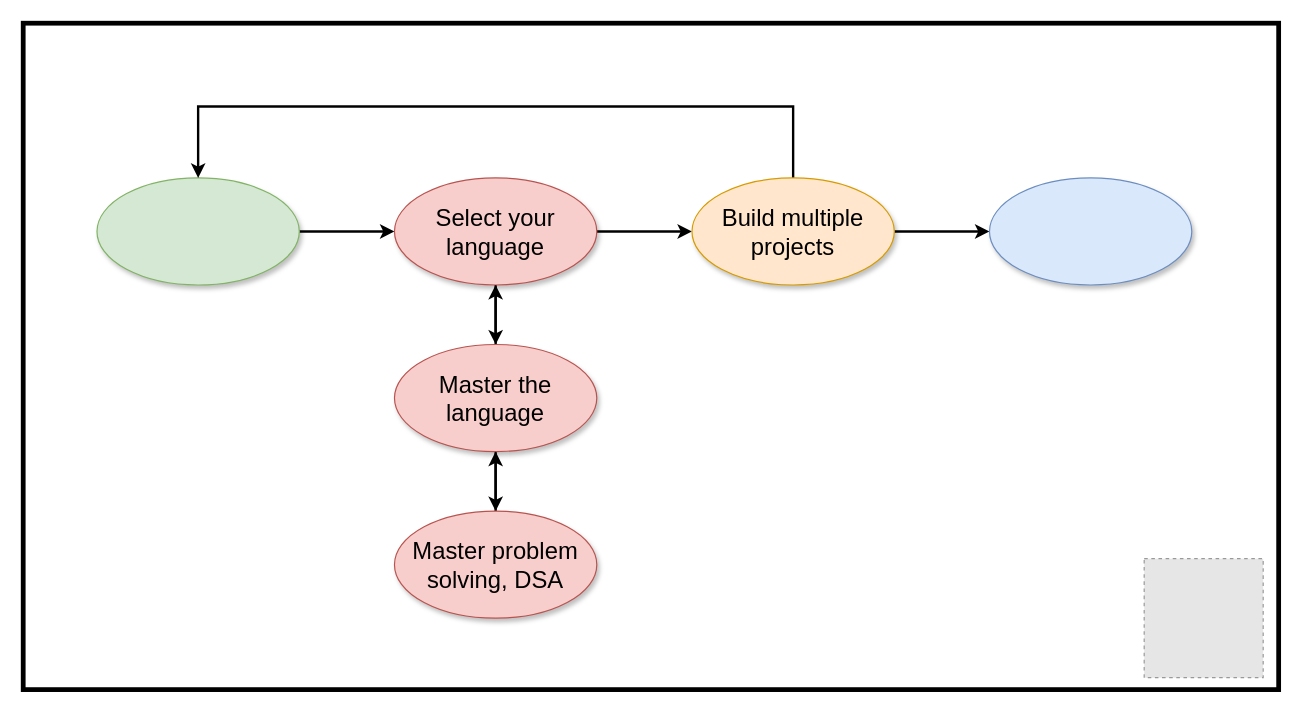
This 1301x712 diagram has some shape labels left out. Grey dashed boxes stand in for pictures. The shapes that lost their labels are listed below. From the top down, each one's centre as x and y in pixels, then its label:
the point at 198,232: Select a domain
the point at 1091,232: Build a strong profile
